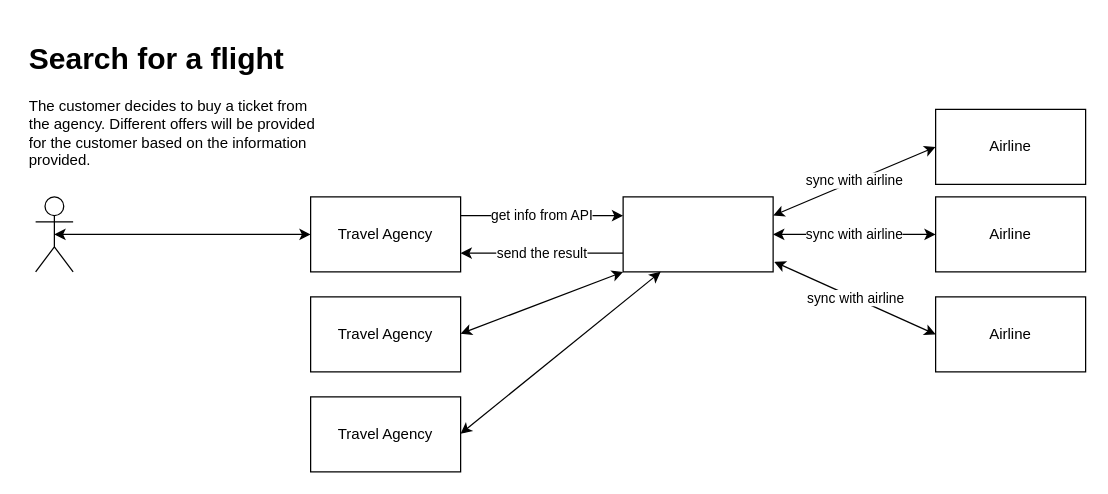
Some shapes in this 1108 by 494 pixel diagram are drawn without their labels. The centre of each missing label's shape, as x and y in pixels:
Customer: the point at 53,234
Web API: the point at 697,234
